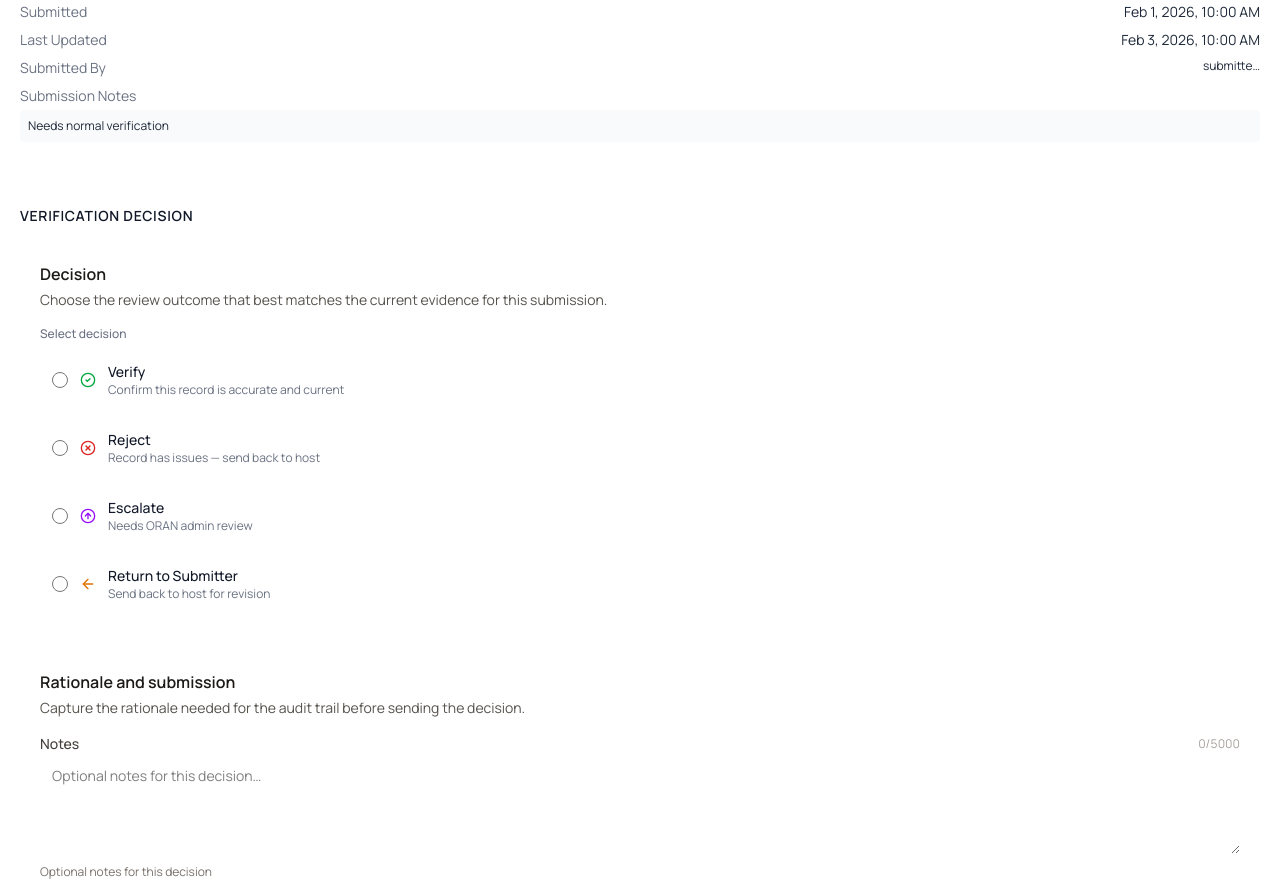
it: community admin verify page › submits a rejection decision, trims notes, and refreshes entry data
(page scrolled)
Click the radio button labelled "Reject Record has issues — send back to host" at (60, 448), box x1=52 y1=440 x2=68 y2=456
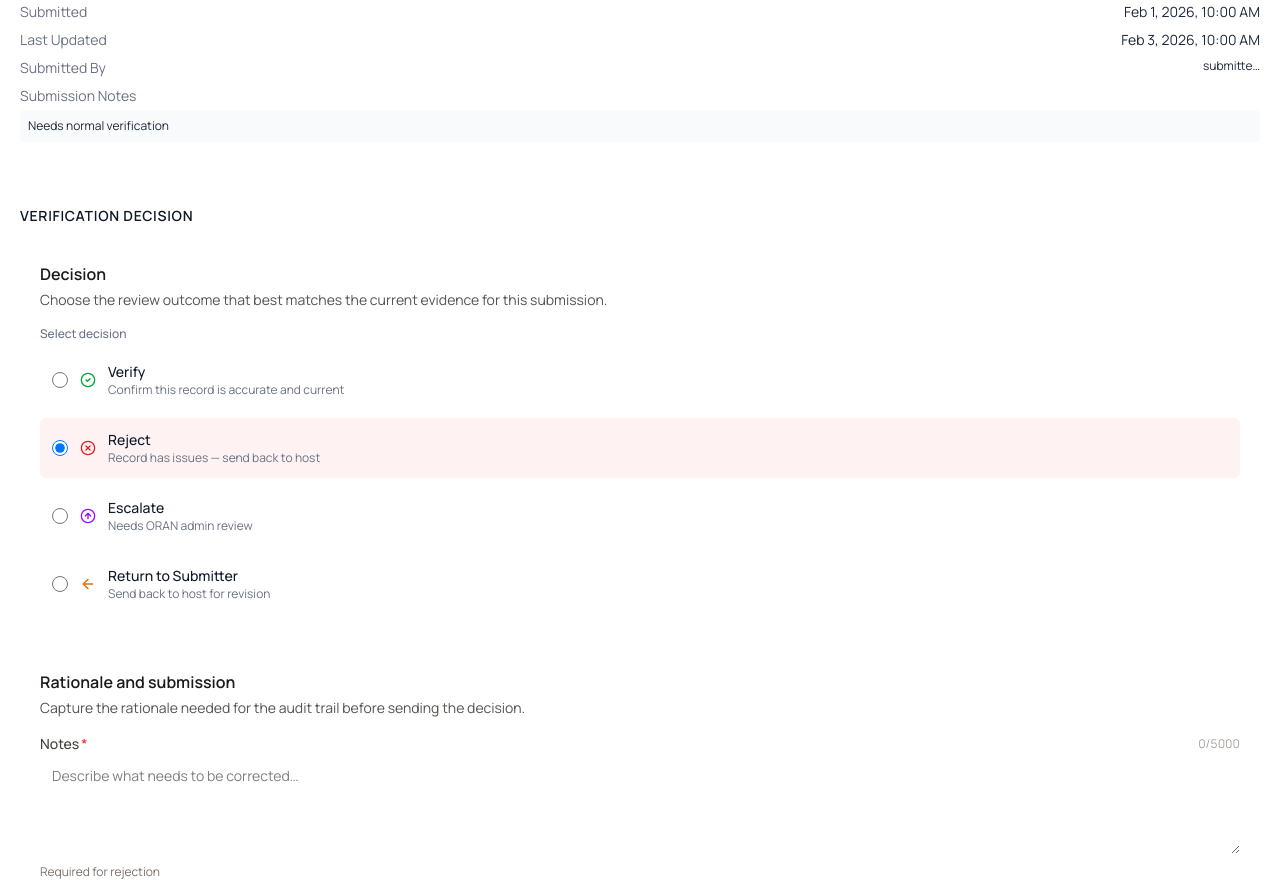
Type "  Missing required docs  " into the text box labelled "Notes*" at (640, 806), box x1=40 y1=758 x2=1240 y2=854
(page scrolled)
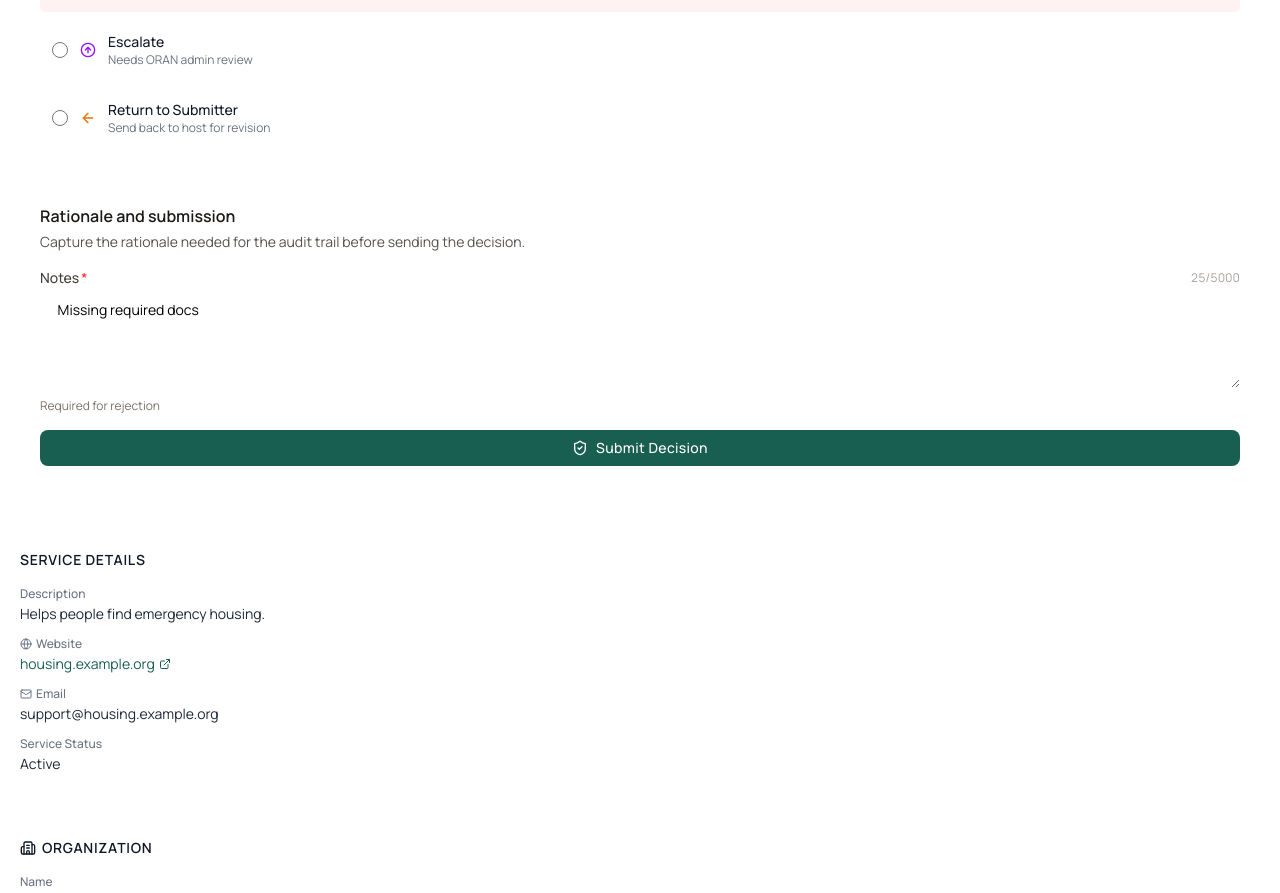
Now the button "Submit Decision" is enabled
Click the button "Submit Decision" at (640, 448), box x1=40 y1=430 x2=1240 y2=466
(page scrolled)
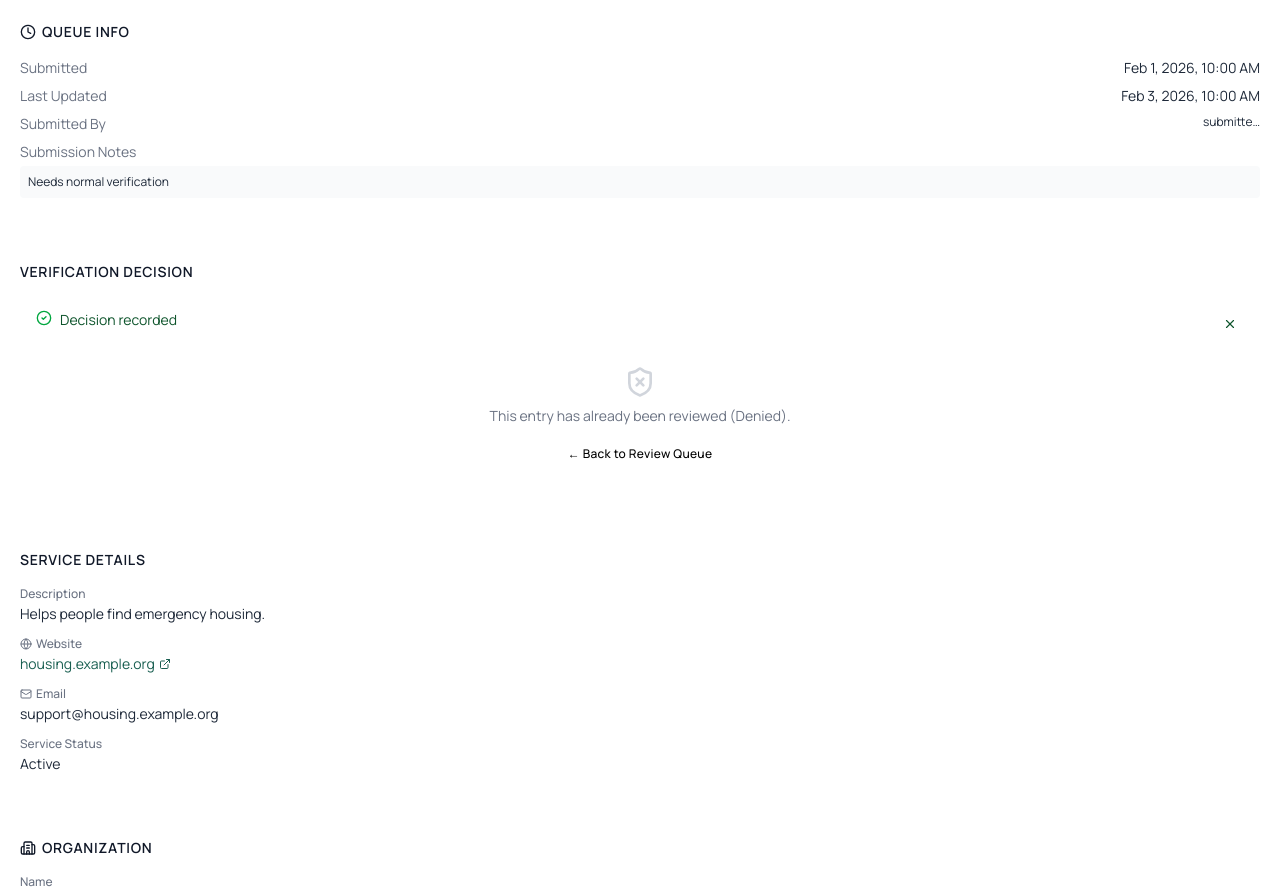
Now the text "Decision recorded" is shown, box x1=60 y1=310 x2=177 y2=329
Now the text "This entry has already been reviewed (Denied)." is shown, box x1=490 y1=406 x2=790 y2=425
